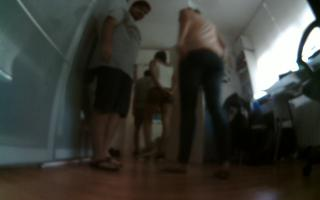person: (161, 2, 242, 177), (85, 1, 151, 175), (147, 46, 175, 163), (131, 67, 156, 161)
